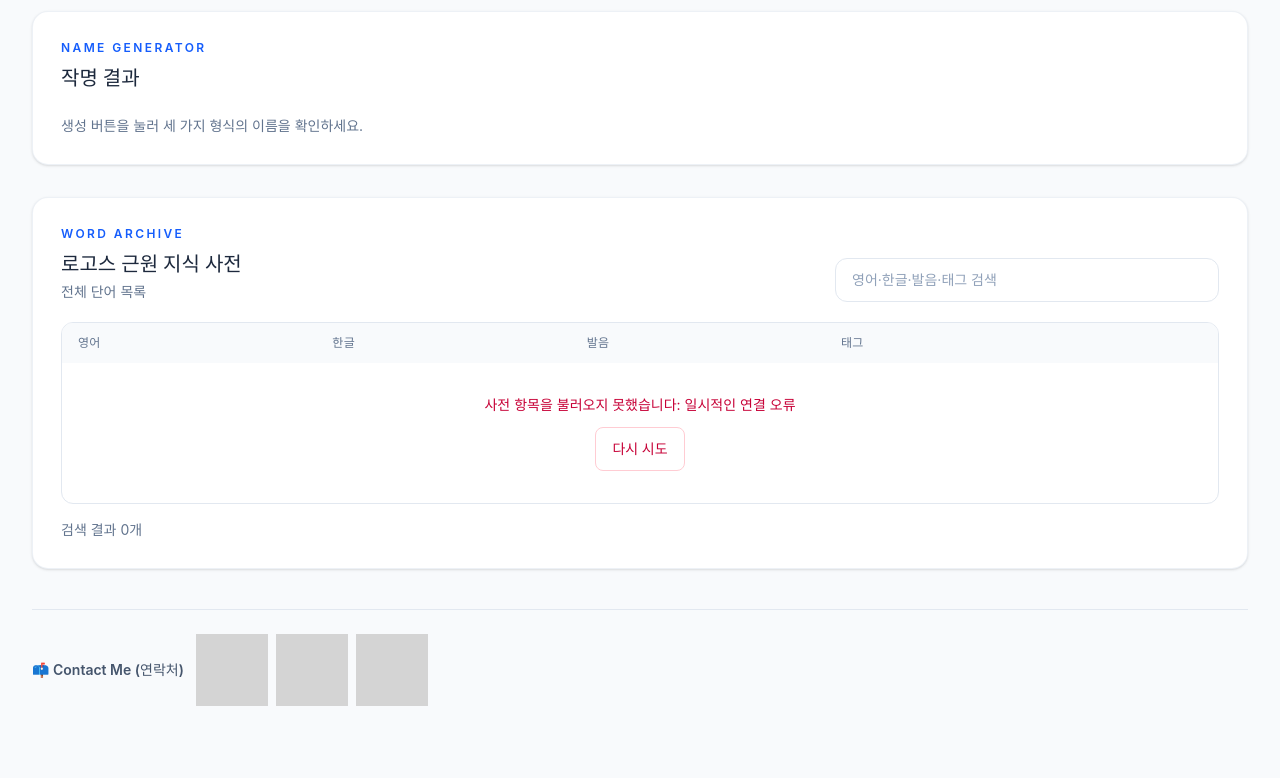
Test case: Logos Architect workspace › retries dictionary requests after a load failure
This screenshot has width=1280, height=778.
(page scrolled)
Check: the message "사전 항목을 불러오지 못했습니다: 일시적인 연결 오류 다시 시도" is shown, box x1=62 y1=363 x2=1218 y2=503
Click the button "다시 시도": coordinates (640, 449) x1=596 y1=427 x2=685 y2=471
(page scrolled)
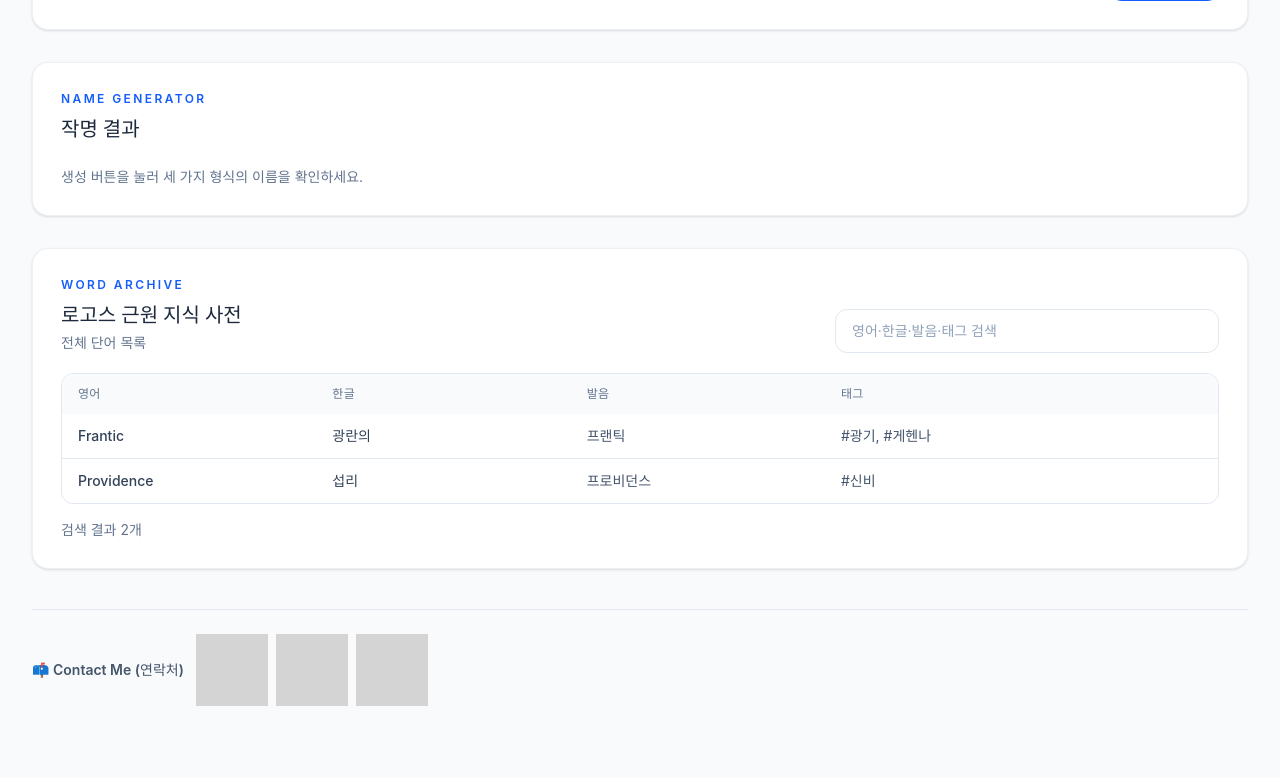
Check: the text "Frantic" is shown, box x1=62 y1=414 x2=316 y2=458
